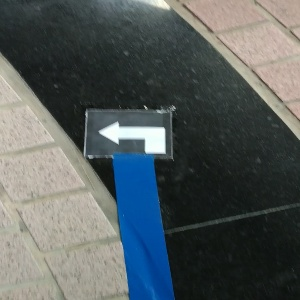left: (84, 108, 173, 158)
